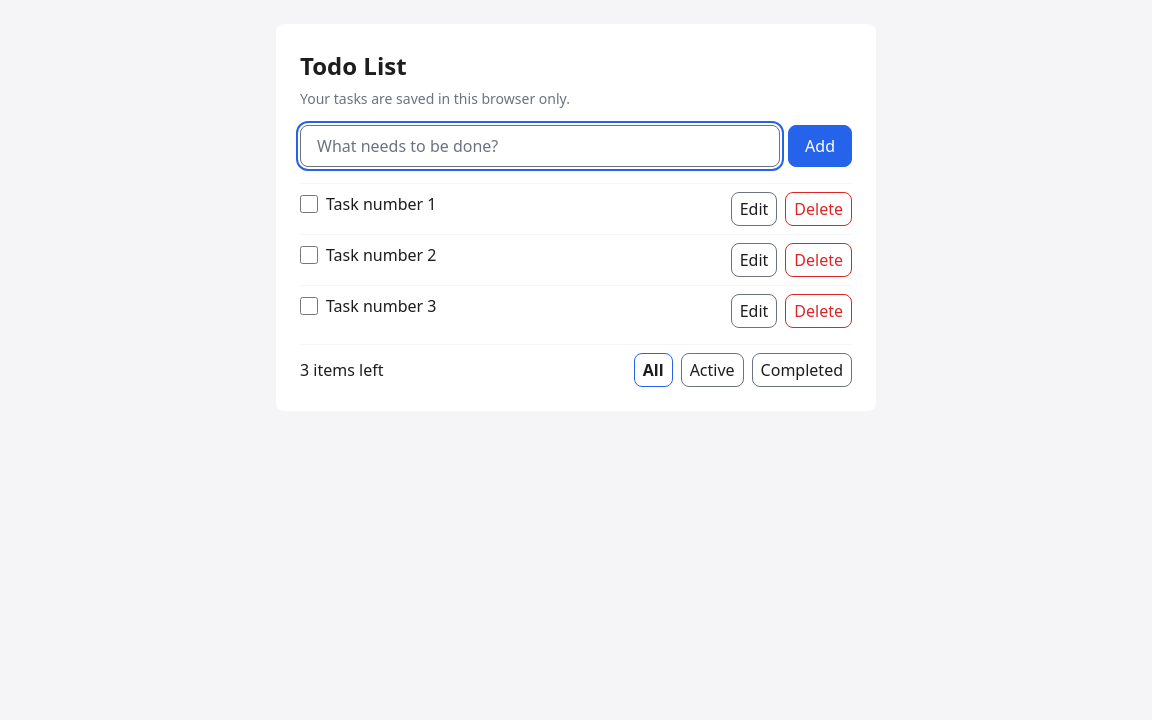
Scenario: App: delete a task › opens the dialog for that task with Cancel focused and the task still listed (AC3.1.1)
Click the button with test id "delete-button" in the row of "Task number 2". click: (819, 260)
box: [785,243,852,277]
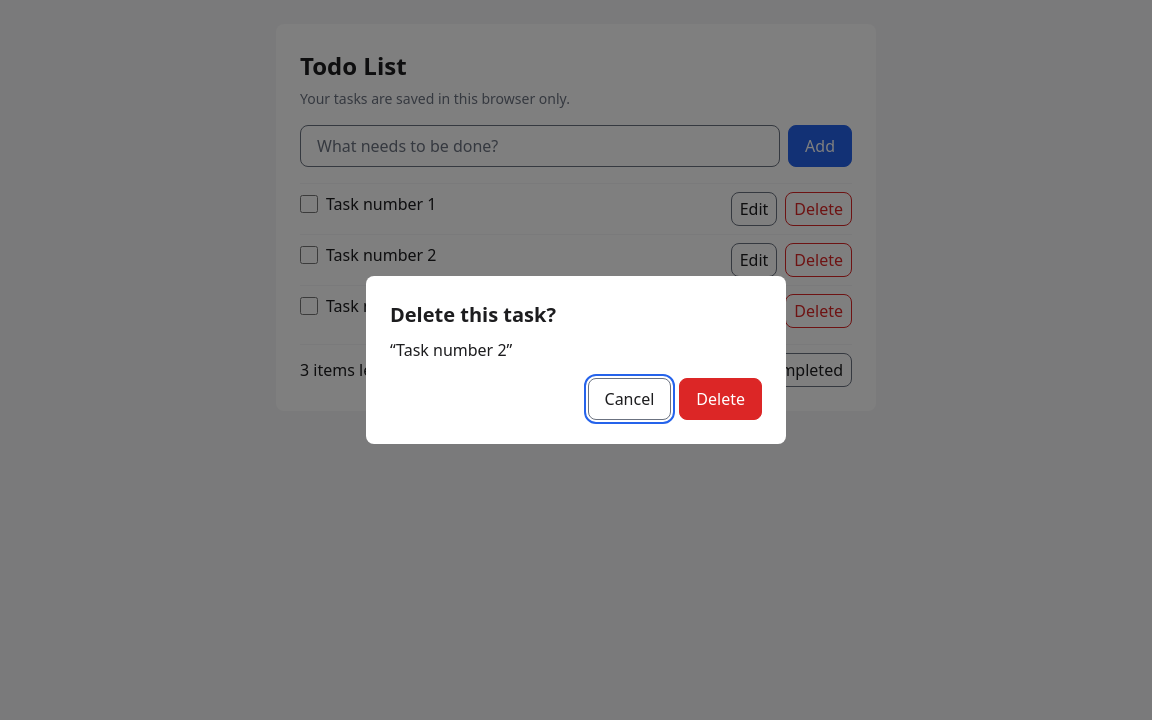
expect the heading "Delete this task?" is shown: met, box [390,301,556,328]
expect the text with test id "delete-dialog-title" reads "“Task number 2”": met, box [390,339,512,361]
